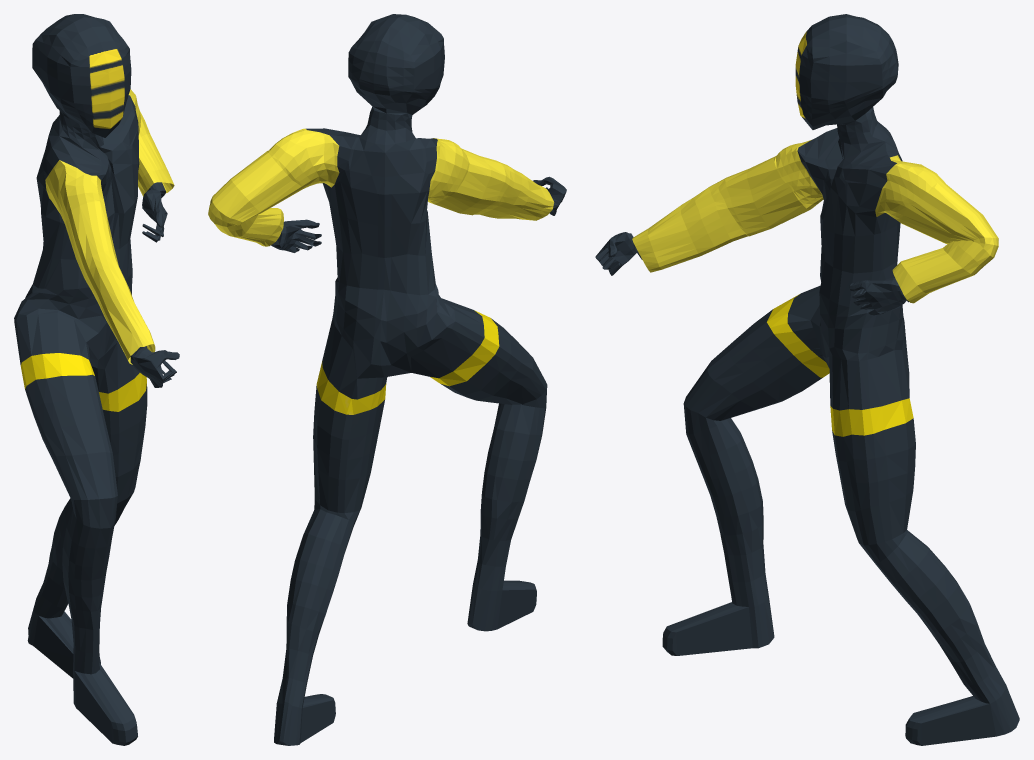
The model's file is Sentry_WB_000008.obj.
3 renders of one model, left to right at view 1: azimuth 30°, elevation 25°; view 2: azimuth 150°, elevation 25°; view 3: azimuth 270°, elevation 25°, orthographic. The views are drawn at different scales.
Visible parts, largest first — view 1: Cube; view 2: Cube; view 3: Cube.
Boxes of the visible parts, left/top/right/bottom form: Cube: left=14, top=14, right=179, bottom=745; Cube: left=208, top=14, right=566, bottom=745; Cube: left=595, top=14, right=1019, bottom=745.
Bounding box in the file's own units: 1.18 × 3.81 × 2.09.
